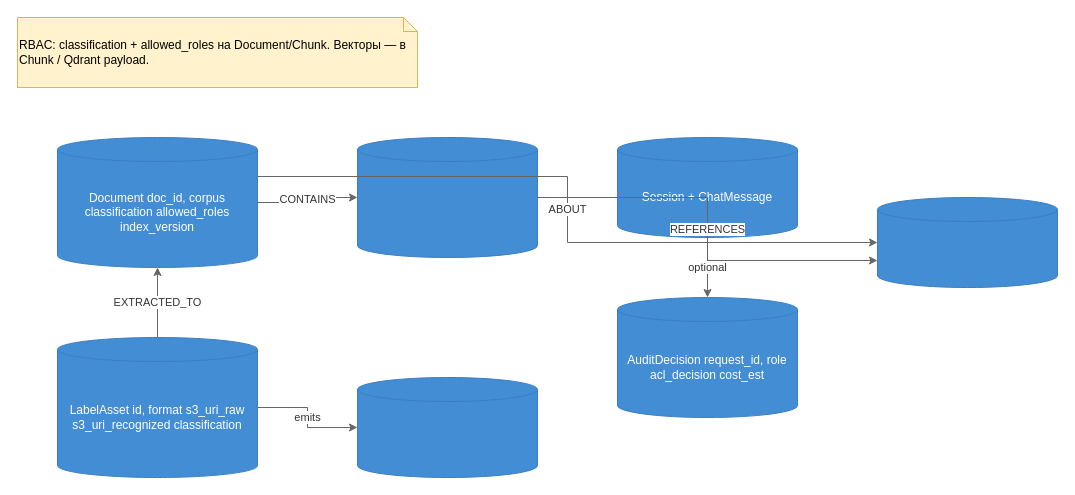
Image size: 1075x495. Some labels were removed from this diagram. The shapes that lost their labels are listed below. From the top down, each one's box as (x1, y1, x2, y2) in pixels, then its label:
(356, 136, 538, 258): Chunk chunk_id, doc_id modality embedding
(876, 196, 1058, 288): Entity / Topic (граф Neo4j)
(356, 376, 538, 478): Outbox event_type payload JSON
